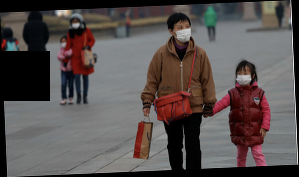with_mask: (172, 22, 192, 42), (234, 70, 253, 86), (70, 19, 81, 29), (59, 38, 67, 47)
